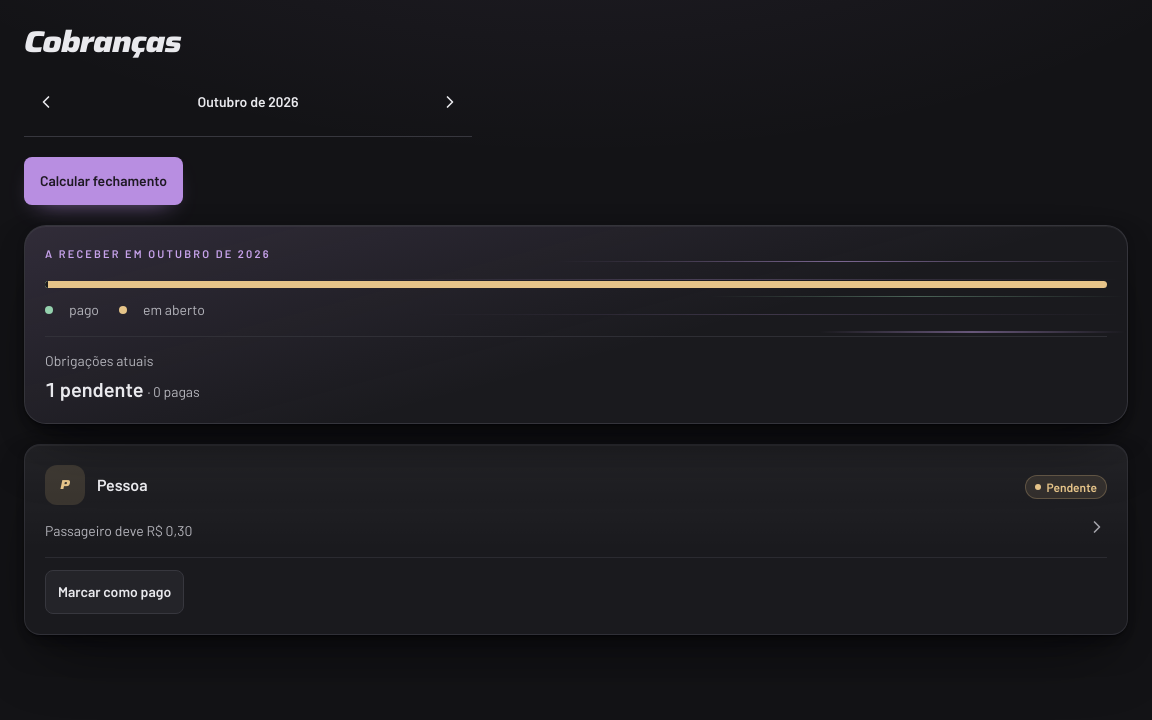
Scenario: closing page RPC anchors › presents sanitized service errors
Click the button "Marcar como pago" at coordinates (115, 592), box x1=45 y1=570 x2=184 y2=614
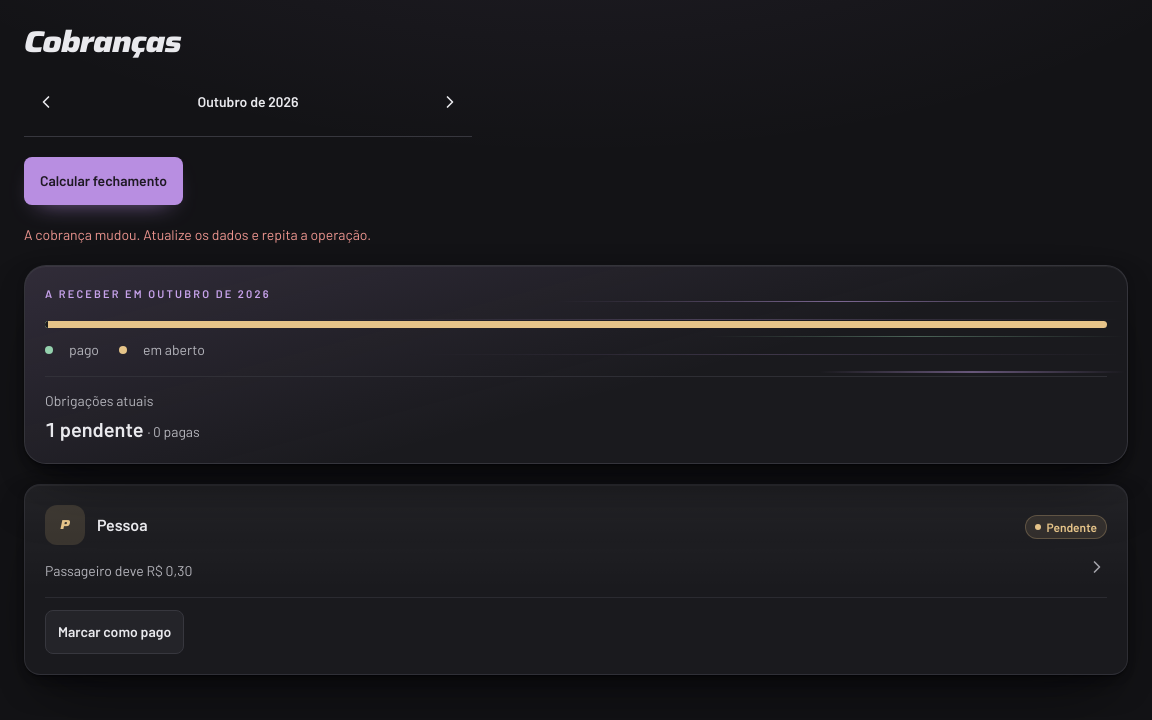
Now the text "A cobrança mudou. Atualize os dados e repita a operação." is shown, box x1=24 y1=226 x2=371 y2=243
